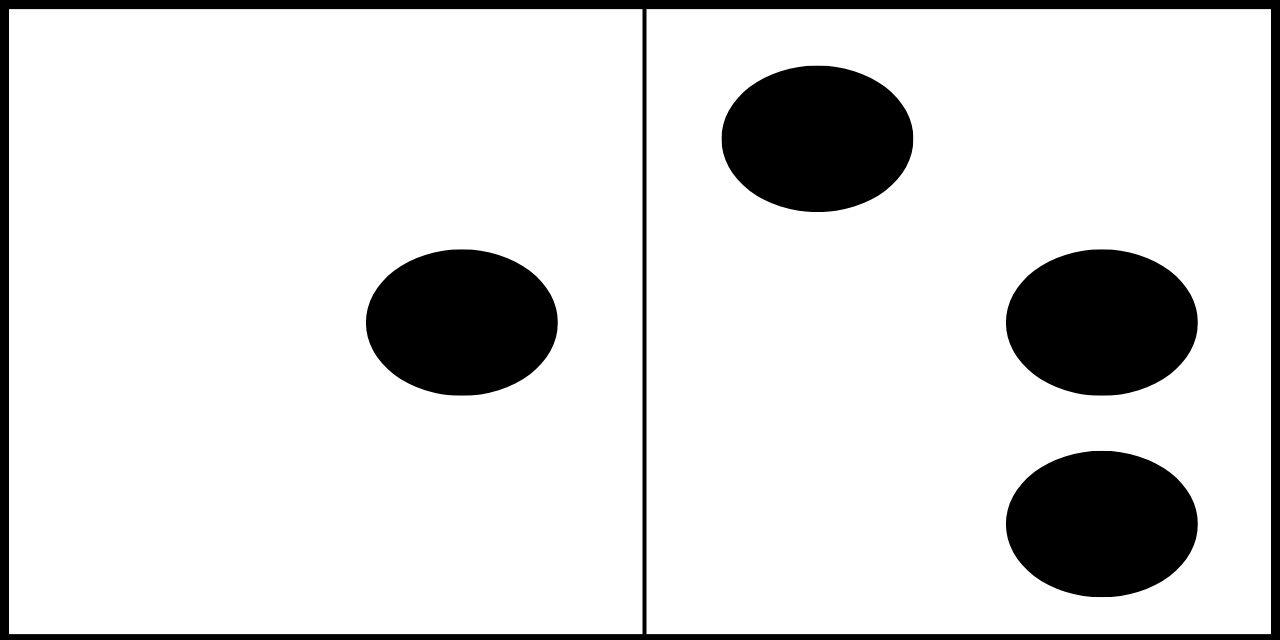dot_5: (100, 67, 560, 596)
sabi: (722, 60, 1201, 600)
